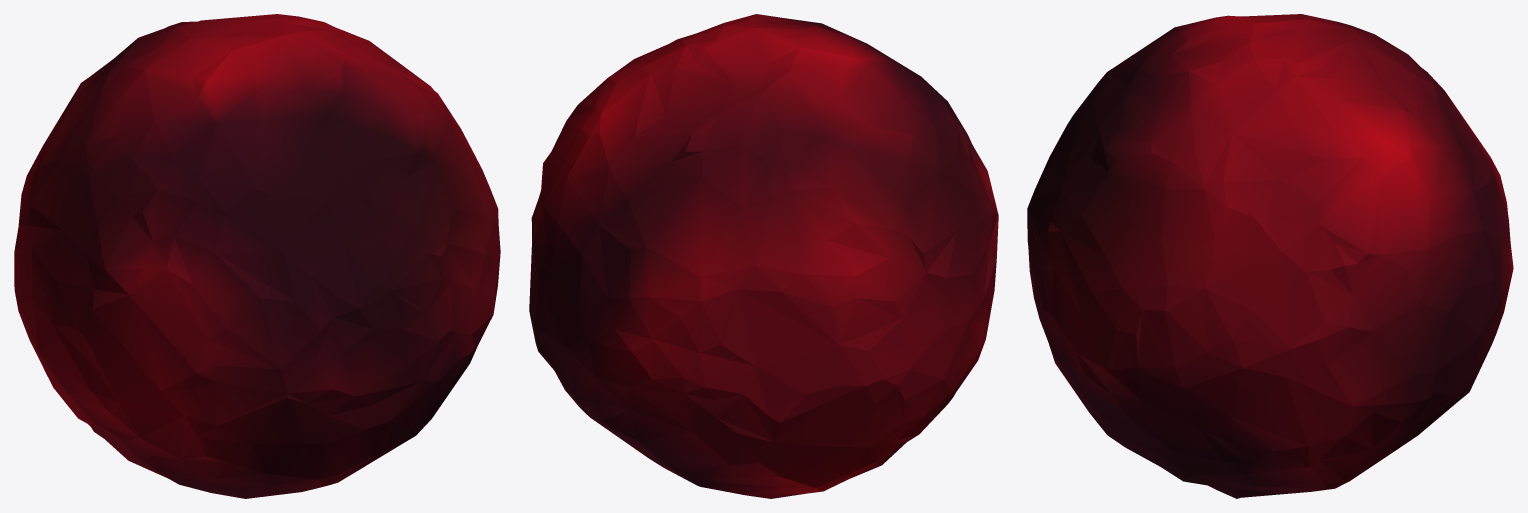
File: Planet_LavaFlow.fbx
3 renders of one model, left to right at view 1: azimuth 30°, elevation 25°; view 2: azimuth 150°, elevation 25°; view 3: azimuth 270°, elevation 25°, orthographic.
Parts seen in each view (by area): view 1: Planet.LavaFlow; view 2: Planet.LavaFlow; view 3: Planet.LavaFlow.
Part boxes in pixels (bbox=[...]): Planet.LavaFlow: bbox=[14, 14, 500, 498]; Planet.LavaFlow: bbox=[529, 14, 998, 498]; Planet.LavaFlow: bbox=[1027, 14, 1513, 498].
Size of the model in its own units: 71535 by 72215 by 72494.
